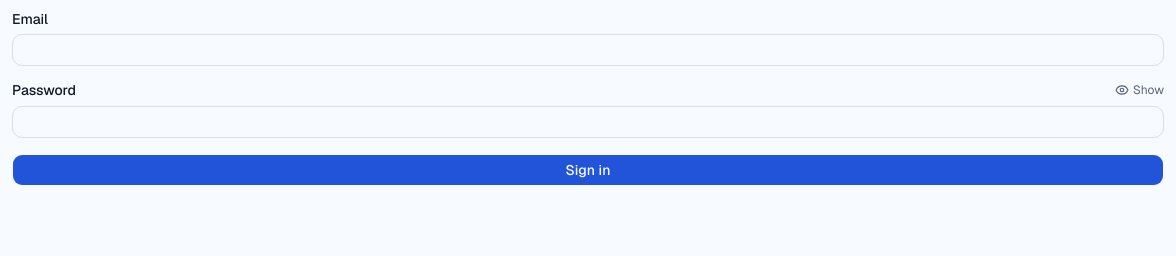
LoginForm › surfaces the generic invalid-credentials failure and preserves input
This screenshot has width=1176, height=256.
In the field labelled "Email": (588, 50) [12, 34, 1164, 66], type "ada@example.com"
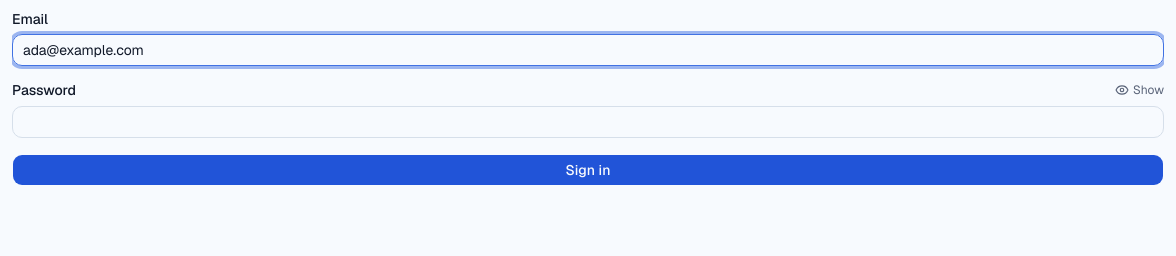
In the password field labelled "Password": (588, 122) [12, 106, 1164, 138], type "wrong-password-1"
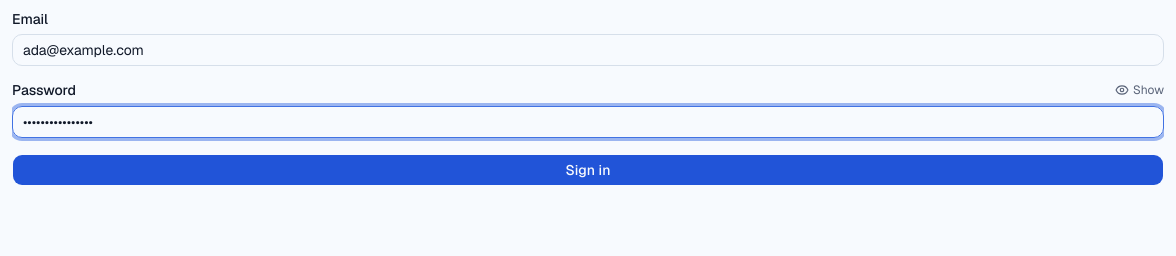
Click the button "Sign in": (588, 170) [12, 154, 1164, 186]
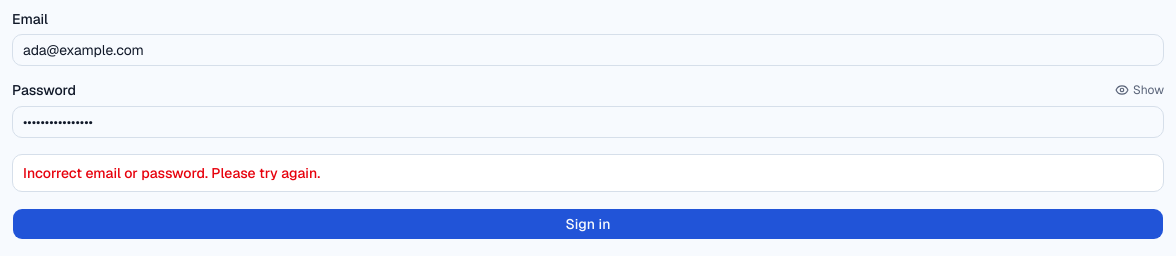
Expected: the text "Incorrect email or password. Please try again." is shown, [23, 164, 320, 182]
